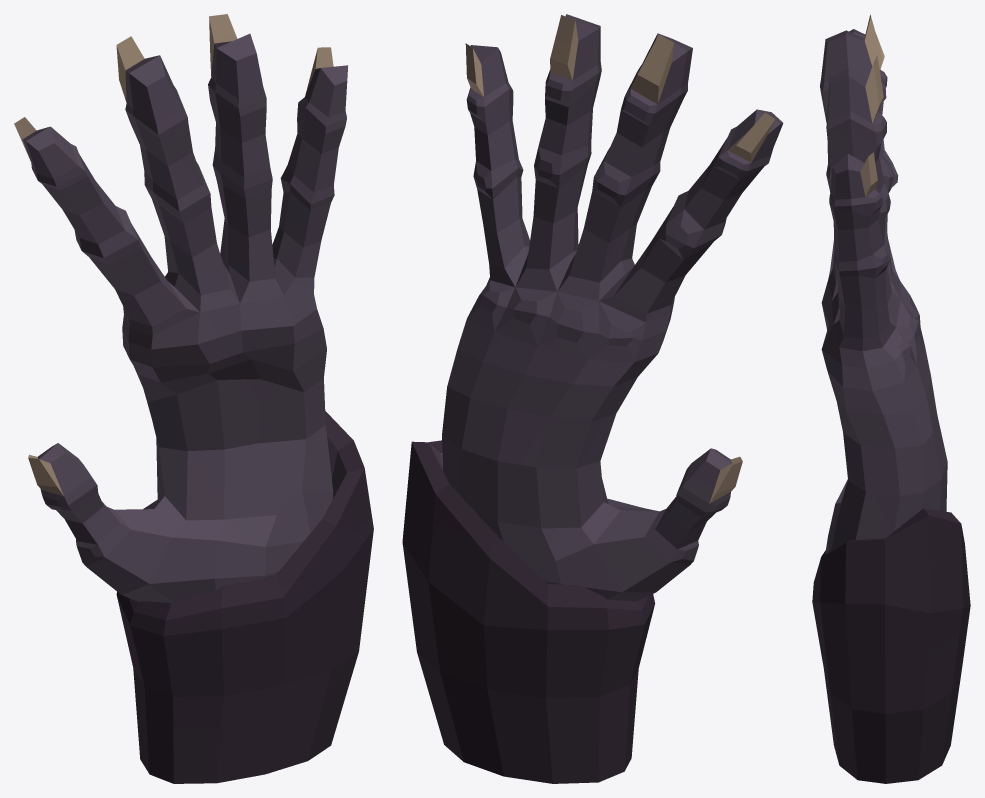
File: MonkeyPaw.fbx
3 renders of one model, left to right at view 1: azimuth 30°, elevation 25°; view 2: azimuth 150°, elevation 25°; view 3: azimuth 270°, elevation 25°, orthographic. The views are drawn at different scales.
Visible parts, largest first — view 1: MonkeyPaw; view 2: MonkeyPaw; view 3: MonkeyPaw.
Part boxes in pixels (x1,y1,x2,y2): MonkeyPaw: (14,14,373,783); MonkeyPaw: (402,14,783,783); MonkeyPaw: (812,14,970,783).
Size of the model in its own units: 43.2 by 86.67 by 18.31.
